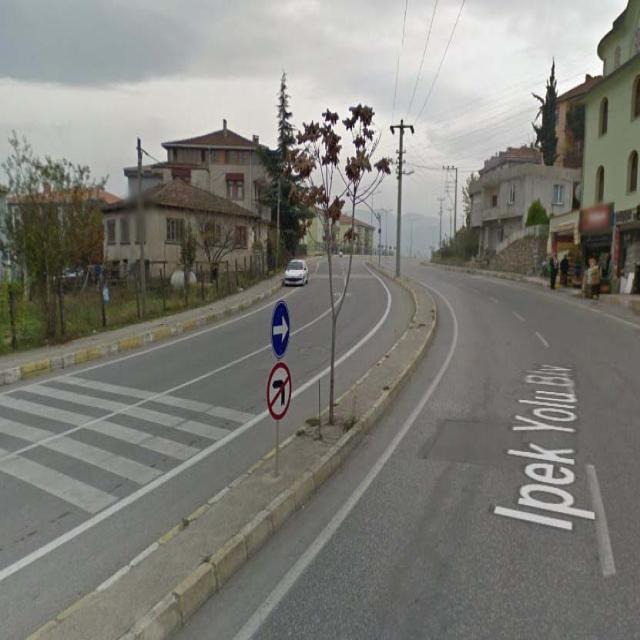sag: (270, 302, 293, 358)
soladonulmez: (266, 364, 292, 418)
